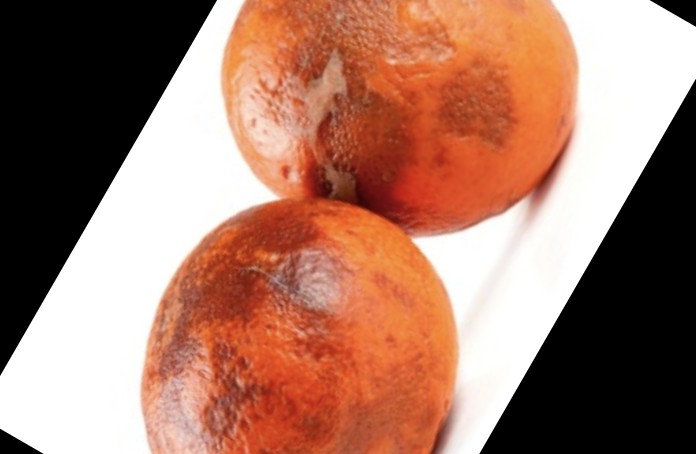rotten_orange: (220, 1, 580, 239), (141, 196, 459, 454)
